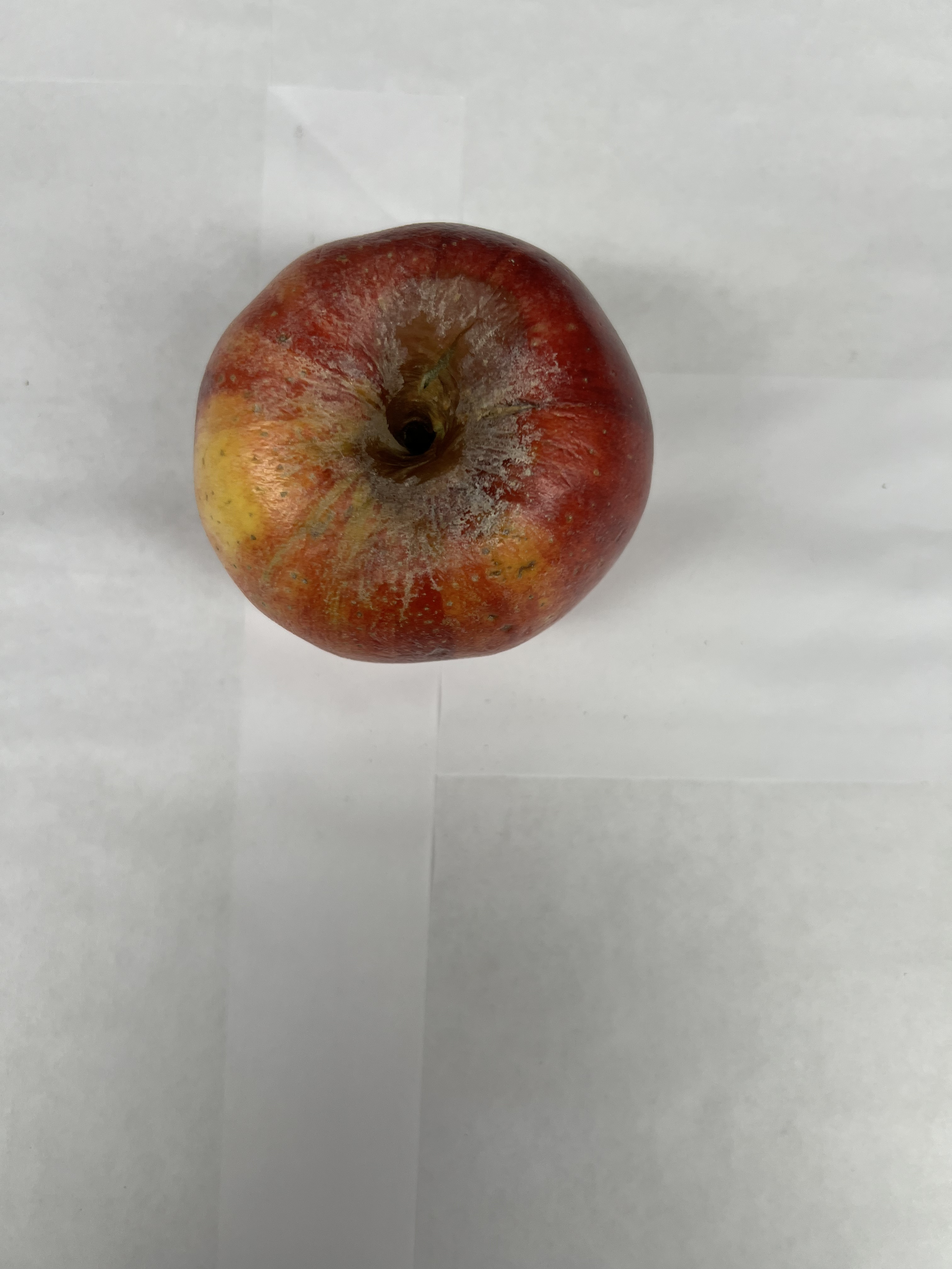visible_cut: (293, 273, 557, 561)
